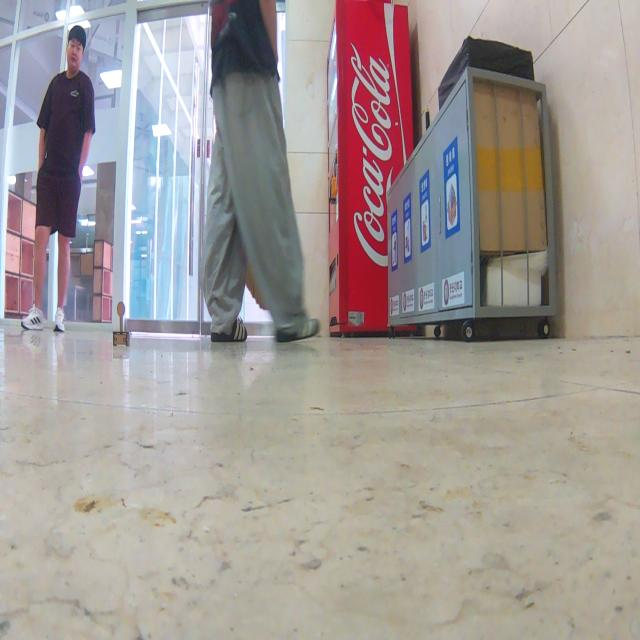target: (112, 301, 130, 347)
